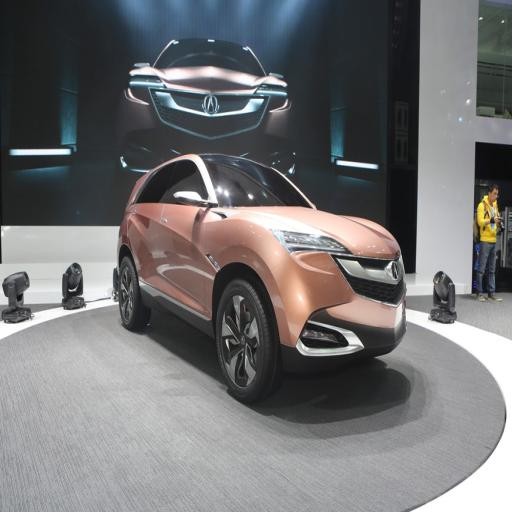Sedan-sDLz: (114, 154, 406, 402)
